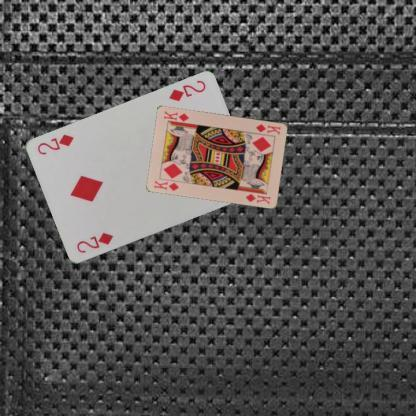2d: (166, 78, 207, 104), (74, 230, 115, 255)
Kd: (254, 121, 283, 136), (152, 177, 180, 192)
